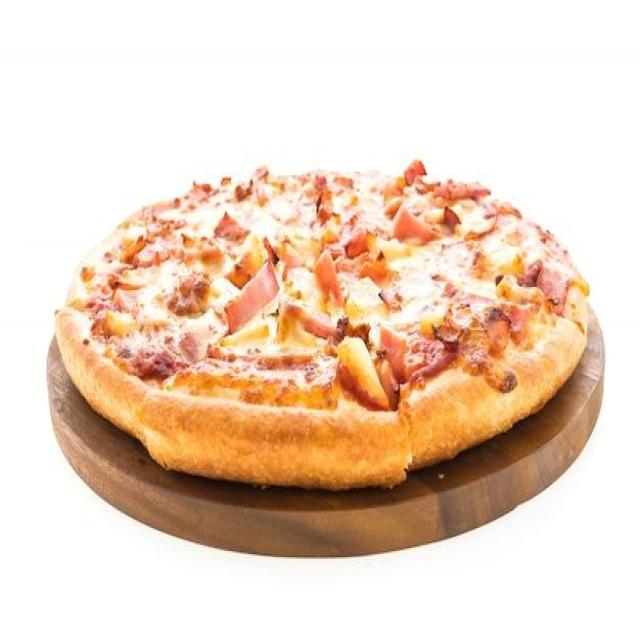pizza: (56, 165, 589, 493)
